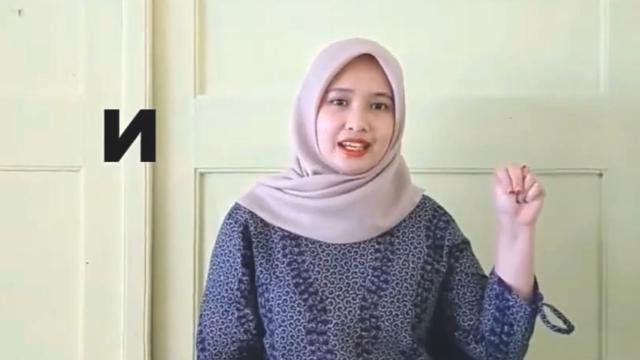N: (492, 162, 546, 226)
